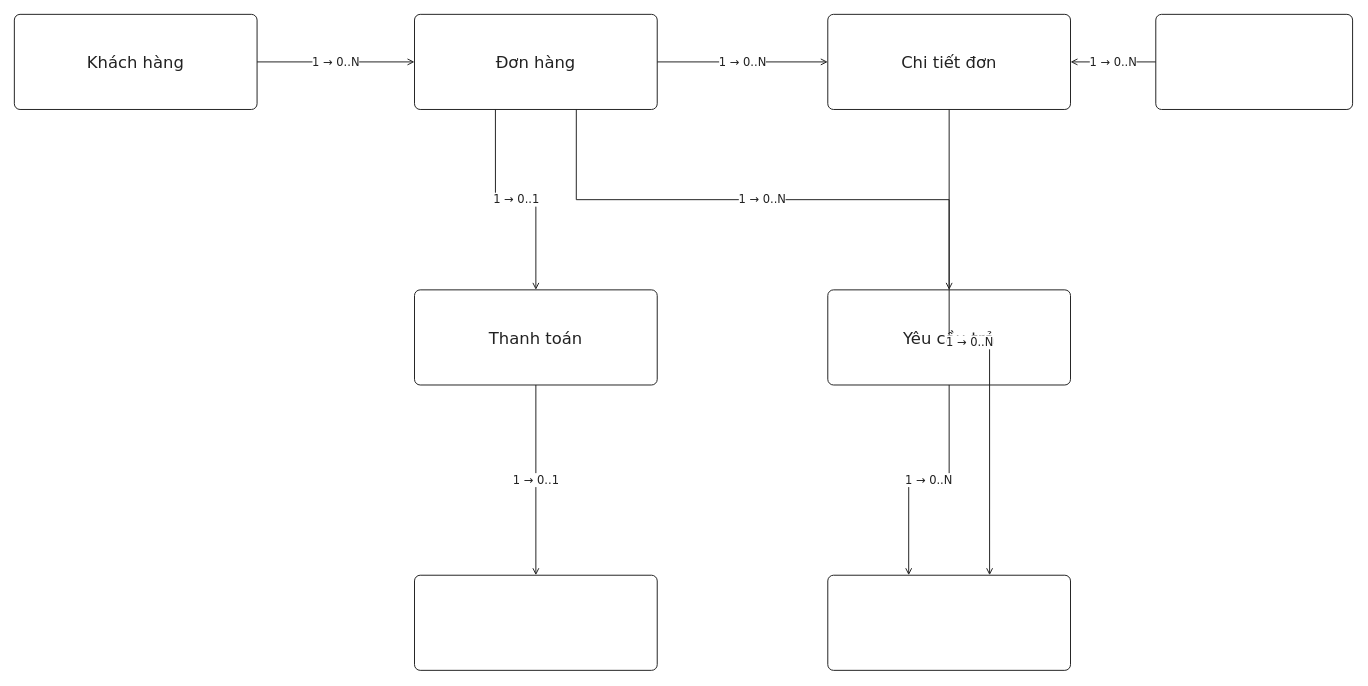
This 1368x686 diagram has some shape labels left out. Each missing label, with the box of its shape:
Biến thể SKU: (1155, 13, 1353, 110)
Chi tiết trả: (827, 574, 1071, 670)
Hoàn tiền: (414, 574, 657, 670)
